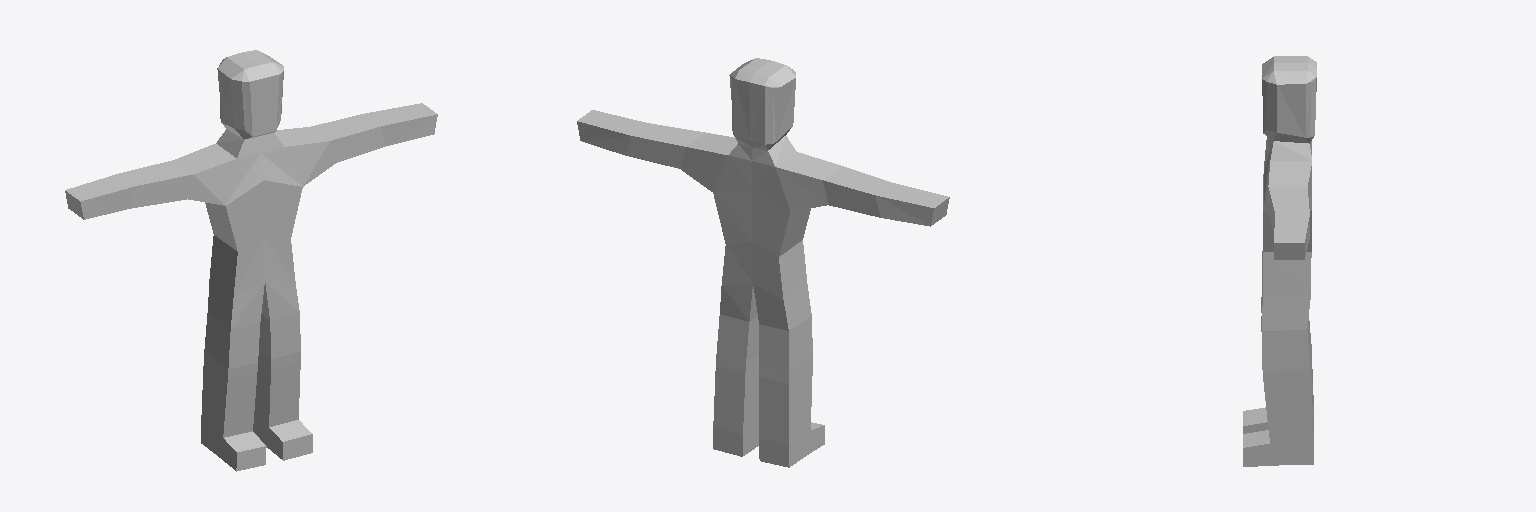
The model's file is person.obj.
The picture shows the model from 3 angles: view 1: azimuth 30°, elevation 25°; view 2: azimuth 150°, elevation 25°; view 3: azimuth 270°, elevation 25°; orthographic projection.
Visible parts, largest first — view 1: Объект_Куб; view 2: Объект_Куб; view 3: Объект_Куб.
Part boxes in pixels (bbox=[...]): Объект_Куб: bbox=[65, 50, 437, 471]; Объект_Куб: bbox=[577, 58, 949, 467]; Объект_Куб: bbox=[1243, 56, 1316, 466].
Size of the model in its own units: 205 by 212 by 37.12.